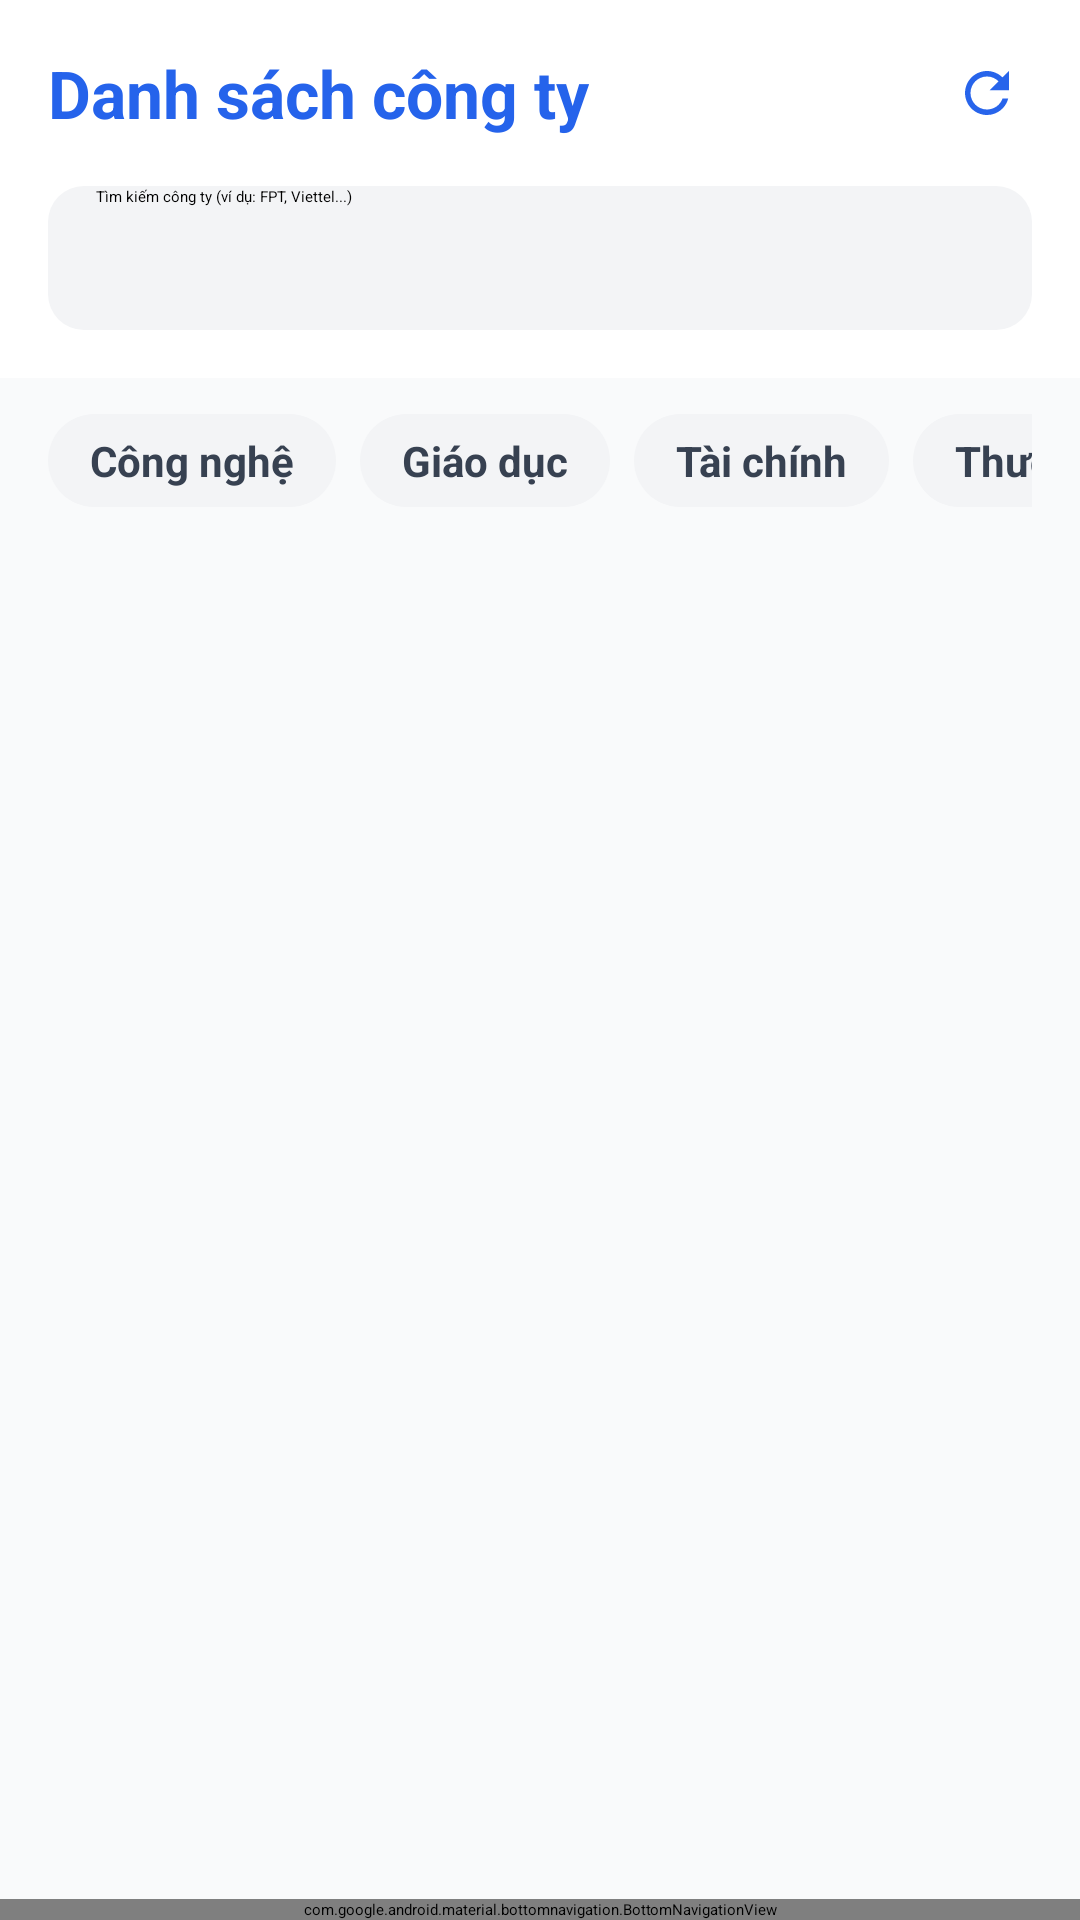

Icons on this 1080px×1920px Android screen, each with the point to tap as [x,y]:
Làm mới danh sách: [987,93]
